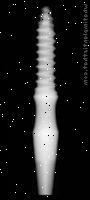Hiossen: (28, 6, 61, 195)
